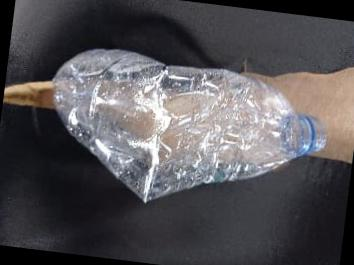Plastik: (55, 48, 325, 201)
